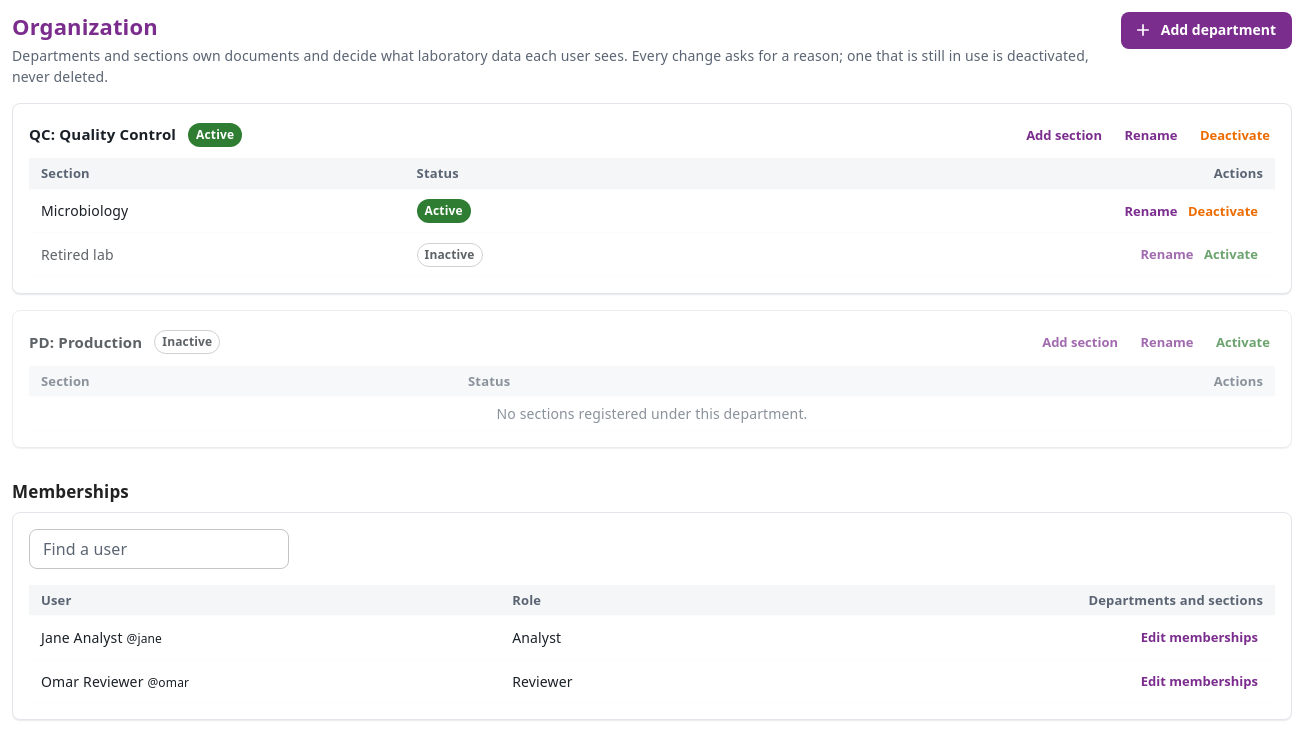
Scenario: OrganizationPage › filters the user list
The image size is (1304, 732).
Check: the text "Jane Analyst @jane" is shown, box [29,616,500,659]
In the field labelled "Find a user": (159, 549) [29,529,289,569], type "omar"
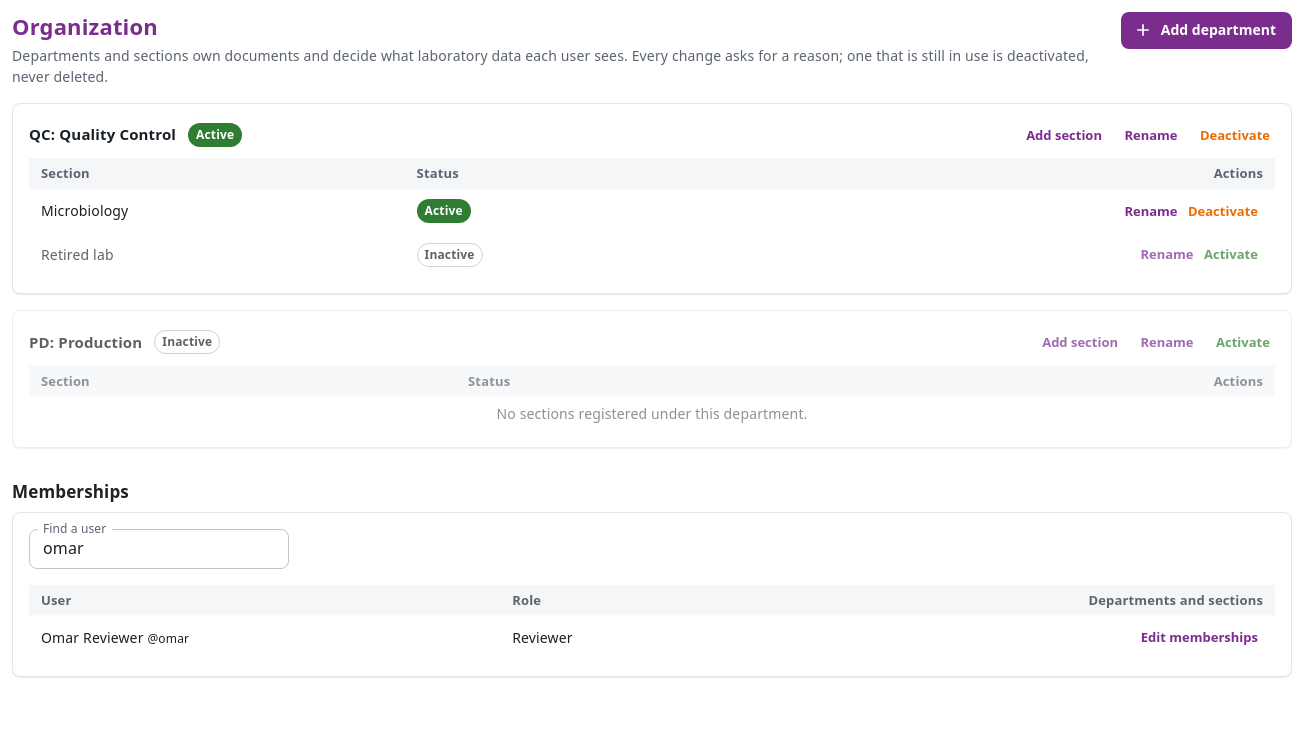
Check: the text "Omar Reviewer @omar" is shown, box [29,616,500,659]
Check: the text "Jane Analyst" is gone
